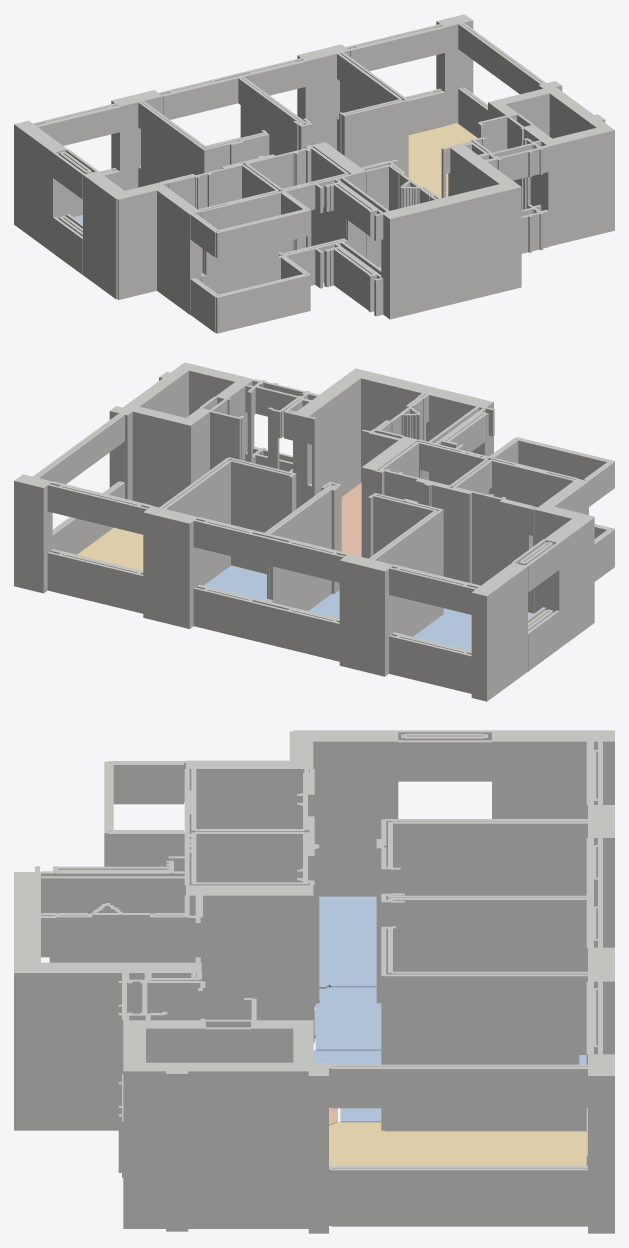
3 renders of one model, top to bottom at view 1: azimuth 30°, elevation 25°; view 2: azimuth 150°, elevation 25°; view 3: azimuth 270°, elevation 25°, orthographic. The views are drawn at different scales.
Visible parts, largest first — view 1: walls, room:living:4; view 2: walls, room:living:4, room:bedroom:0, room:bedroom:3, room:kitchen:9, room:bedroom:2; view 3: walls, room:living:4, room:bedroom:0, room:bedroom:2, room:bedroom:3.
Part boxes in pixels (<box>): walls: <box>14,14,614,333</box>; room:living:4: <box>408,123,477,198</box>; walls: <box>14,362,614,701</box>; room:living:4: <box>77,527,143,570</box>; room:bedroom:0: <box>413,608,533,650</box>; room:bedroom:3: <box>204,565,266,600</box>; room:kitchen:9: <box>341,483,361,556</box>; room:bedroom:2: <box>308,590,339,618</box>; walls: <box>14,730,614,1233</box>; room:living:4: <box>329,1122,586,1165</box>; room:bedroom:0: <box>319,896,376,988</box>; room:bedroom:2: <box>314,987,381,1050</box>; room:bedroom:3: <box>313,1050,586,1122</box>.
Bounding box in the file's own units: 13.16 × 2.8 × 9.67.
